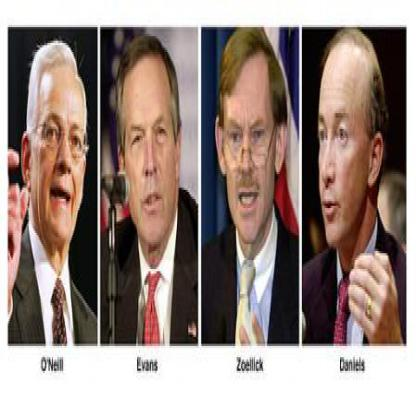face: (313, 37, 374, 254), (123, 45, 181, 249), (32, 52, 86, 253), (225, 43, 278, 244)
